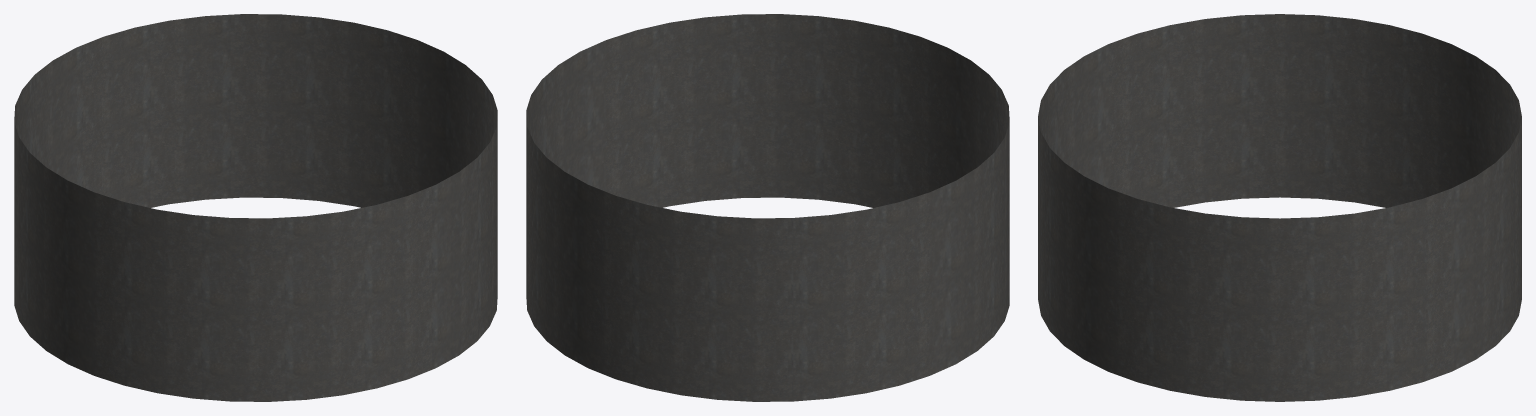
File: Arena_shell.fbx
3 renders of one model, left to right at view 1: azimuth 30°, elevation 25°; view 2: azimuth 150°, elevation 25°; view 3: azimuth 270°, elevation 25°, orthographic.
Parts seen in each view (by area): view 1: Object036; view 2: Object036; view 3: Object036.
Part boxes in pixels (box(x1,y1,x2,y2)): Object036: box(14, 14, 497, 401); Object036: box(526, 14, 1009, 401); Object036: box(1038, 14, 1521, 401).
Bounding box in the file's own units: 2611 × 1092 × 2611.
